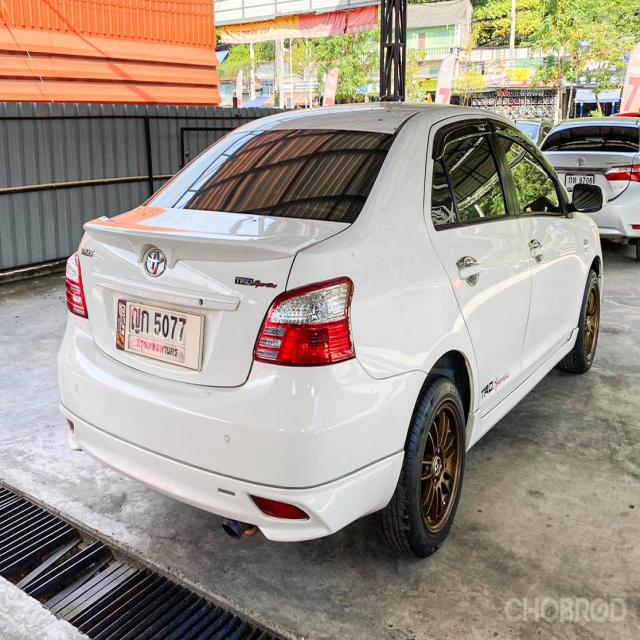license_plate: (106, 289, 217, 381)
